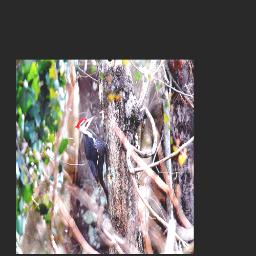Woodpecker: (72, 115, 109, 206)
